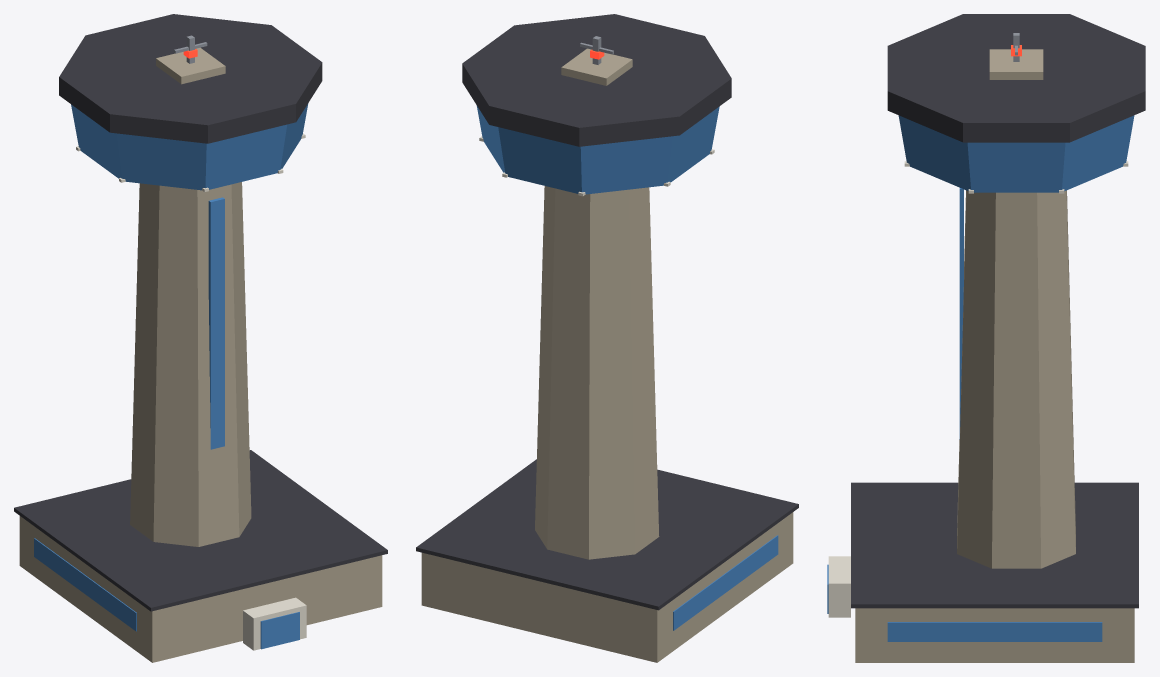
File: Kit_ControlTower.glb
3 renders of one model, left to right at view 1: azimuth 30°, elevation 25°; view 2: azimuth 150°, elevation 25°; view 3: azimuth 270°, elevation 25°, orthographic. The views are drawn at different scales.
Visible parts, largest first — view 1: Kit_ControlTower; view 2: Kit_ControlTower; view 3: Kit_ControlTower.
Boxes of the visible parts, box(x1,y1,x2,y2) form: Kit_ControlTower: box(14, 14, 387, 662); Kit_ControlTower: box(416, 14, 798, 662); Kit_ControlTower: box(827, 14, 1145, 662).
Bounding box in the file's own units: 26.8 × 58.5 × 29.61.
